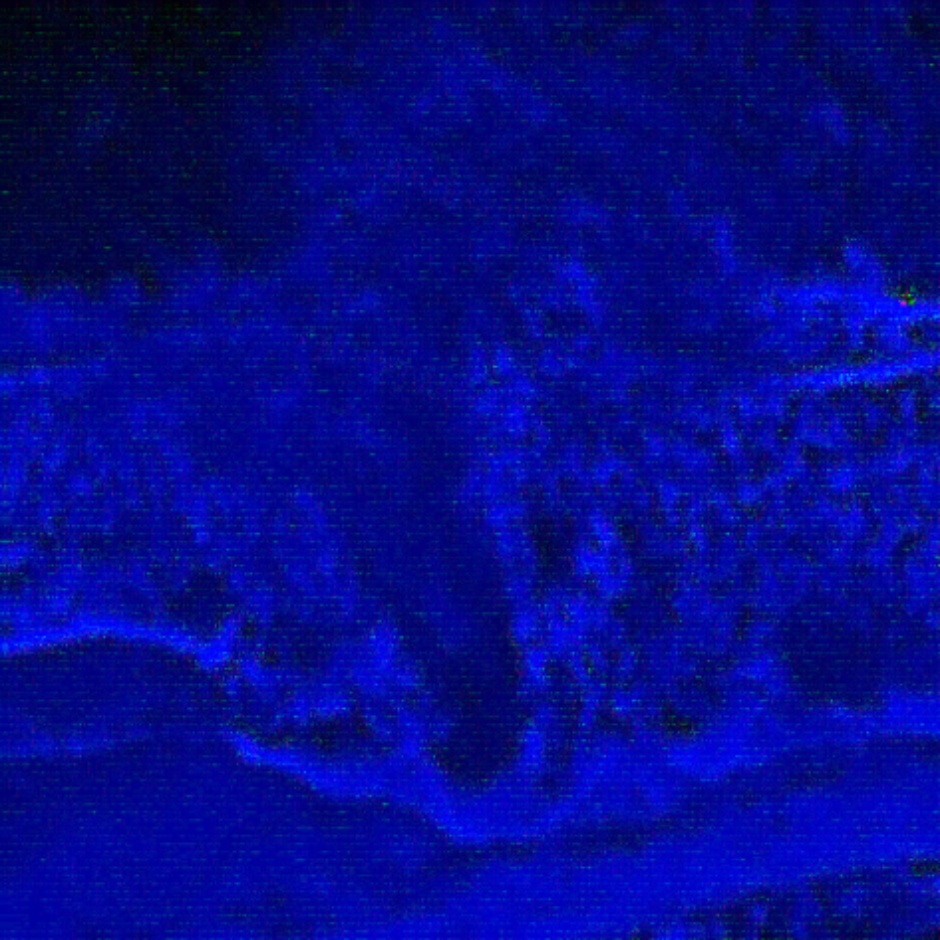rip_current: (240, 192, 597, 729)
